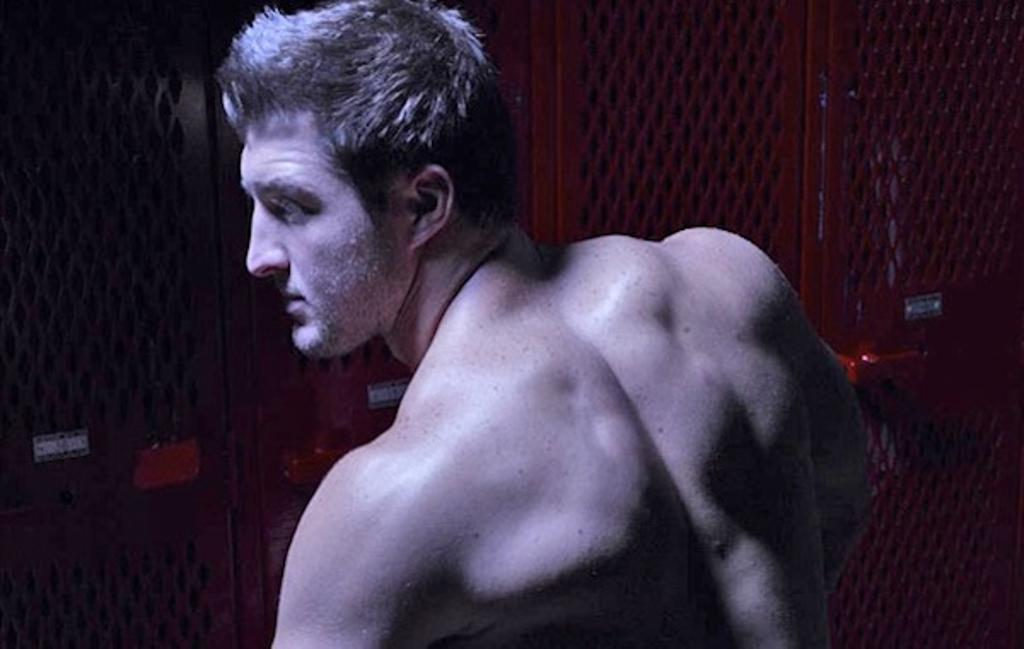face: (241, 97, 401, 351)
